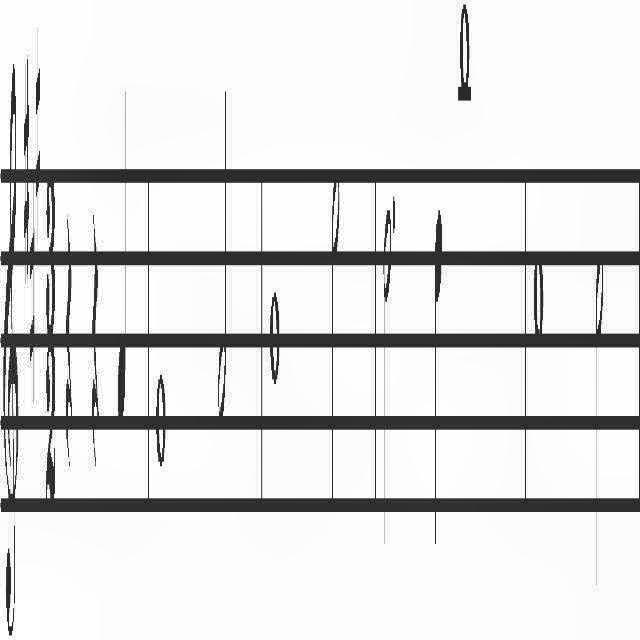Bass-clef: (0, 8, 20, 640)
Diez: (22, 36, 30, 298), (34, 0, 41, 256), (29, 164, 35, 420)
Full-note: (457, 7, 473, 113), (530, 248, 546, 354), (268, 288, 280, 412), (156, 360, 167, 472)
Half-note: (592, 215, 604, 608), (216, 61, 228, 442), (331, 138, 341, 542), (382, 176, 391, 580)
Quarter-note: (115, 59, 128, 438), (432, 184, 444, 564)
Quarter-rest: (91, 205, 101, 470), (64, 210, 72, 458)
